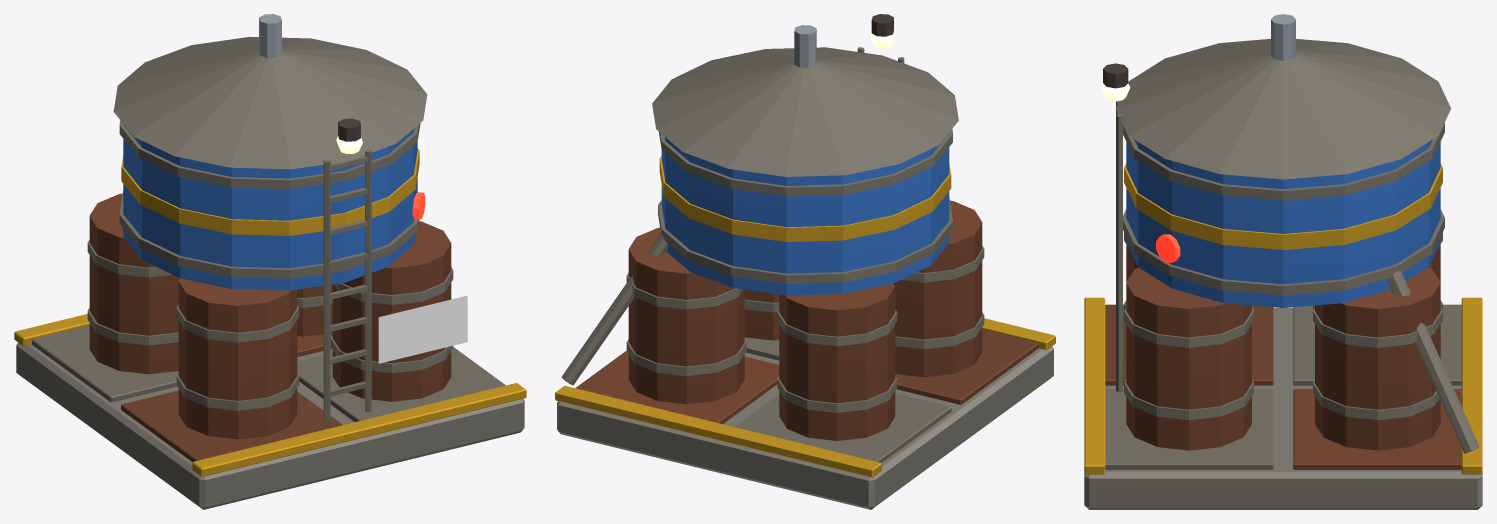
The model's file is grenier.glb.
3 renders of one model, left to right at view 1: azimuth 30°, elevation 25°; view 2: azimuth 150°, elevation 25°; view 3: azimuth 270°, elevation 25°, orthographic. The views are drawn at different scales.
Parts seen in each view (by area): view 1: grenier, tag_0; view 2: grenier; view 3: grenier.
Part boxes in pixels (box(x1,y1,x2,y2)): grenier: box(14, 14, 526, 509); tag_0: box(378, 295, 467, 363); grenier: box(555, 14, 1055, 509); grenier: box(1084, 14, 1482, 509).
Size of the model in its own units: 1.9 by 2.15 by 1.9.
